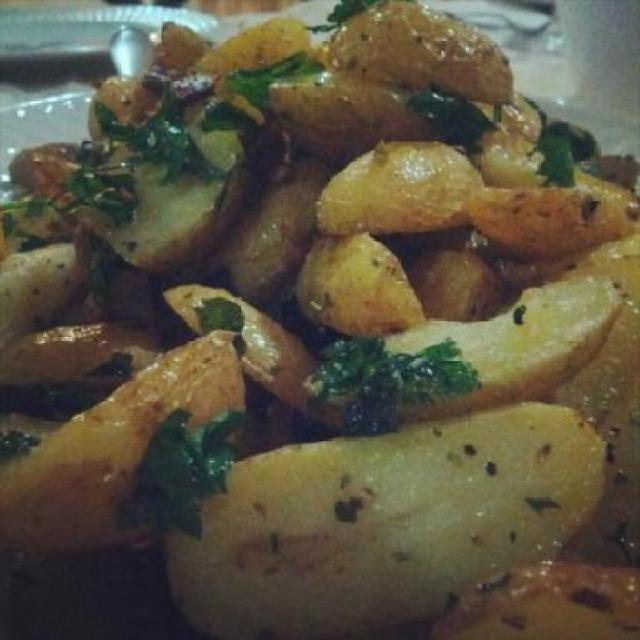Potato: (290, 228, 436, 346)
